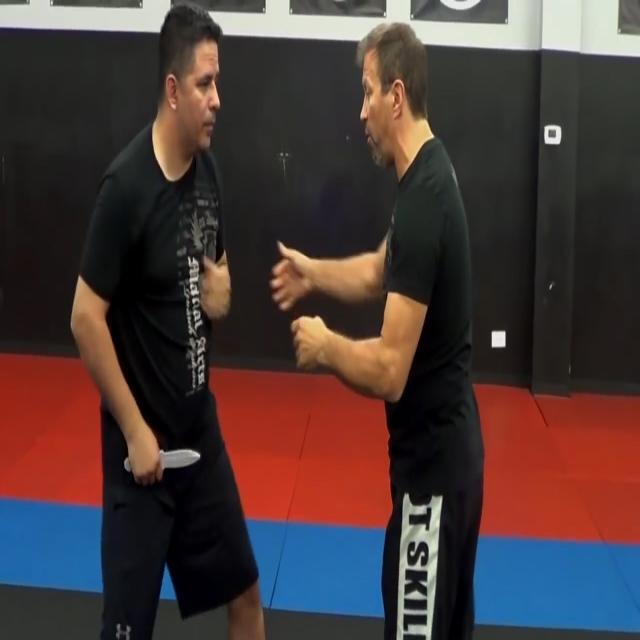knife: (158, 445, 203, 479)
